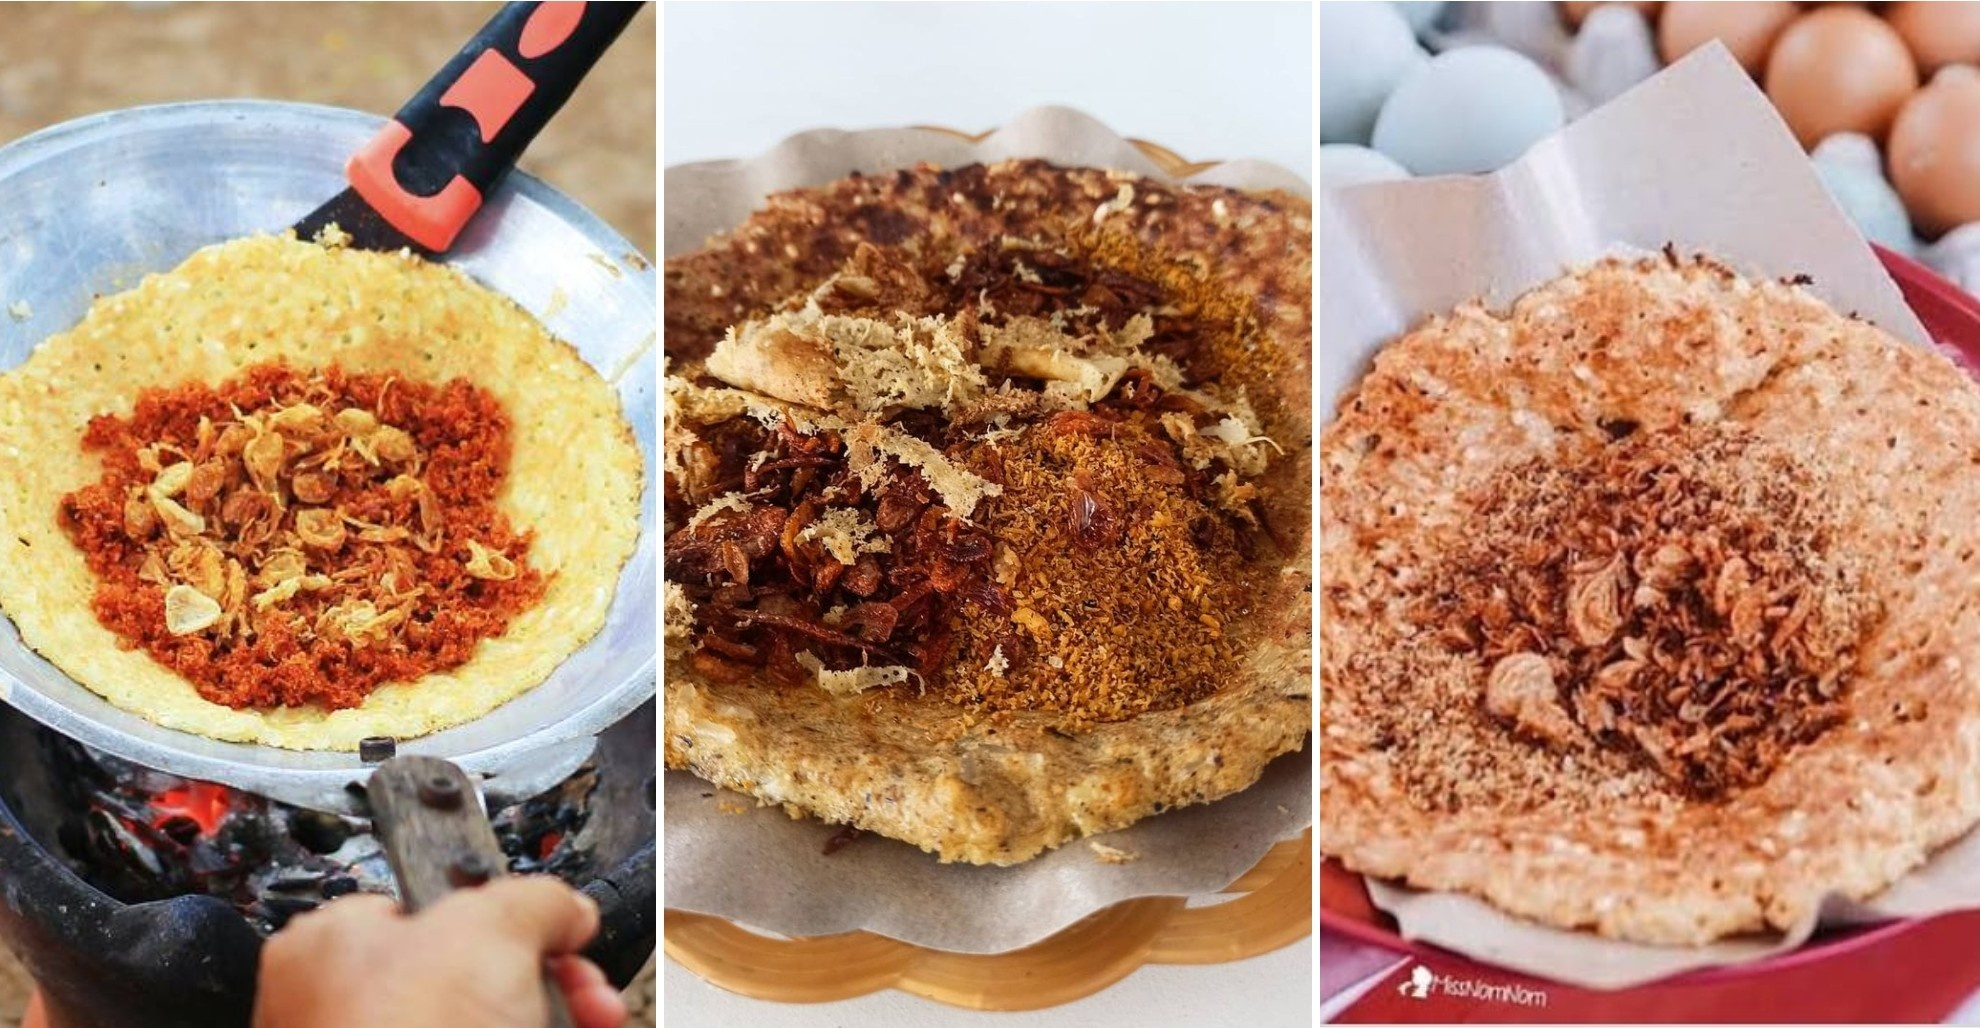kerak_telor: (1323, 255, 1977, 938), (0, 241, 644, 758)
